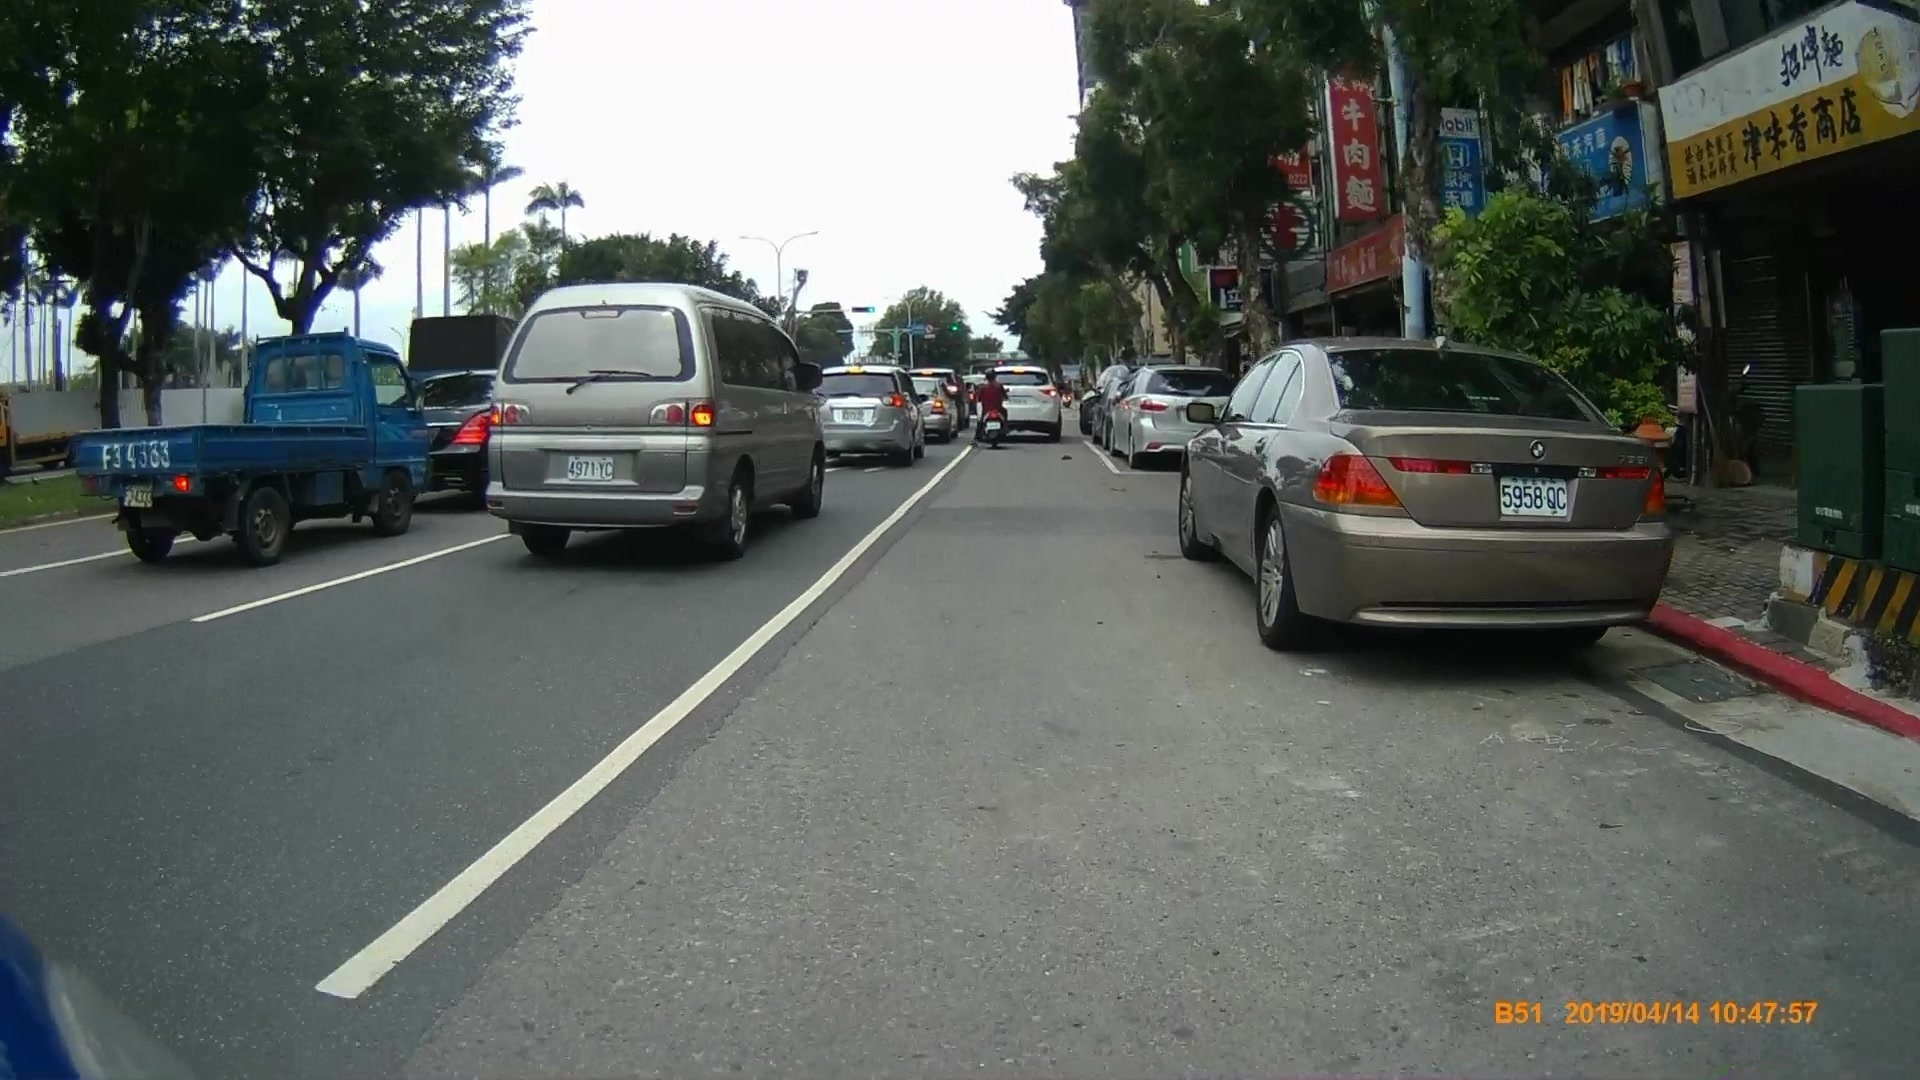License_plate: (1496, 472, 1576, 521), (565, 451, 616, 486), (841, 406, 868, 424)
